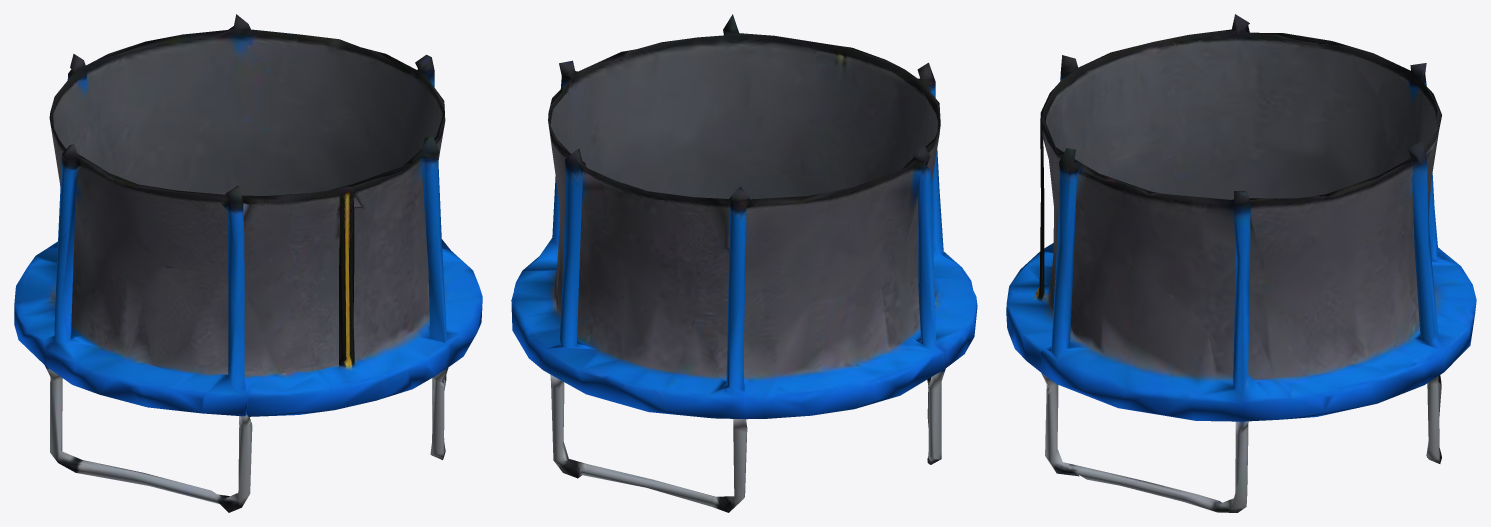
The model's file is trampoline.glb.
The picture shows the model from 3 angles, left to right: view 1: azimuth 30°, elevation 25°; view 2: azimuth 150°, elevation 25°; view 3: azimuth 270°, elevation 25°; orthographic projection.
Parts seen in each view (by area): view 1: trampoline-node; view 2: trampoline-node; view 3: trampoline-node.
Part boxes in pixels (x1=…): trampoline-node: x1=14, y1=14, x2=482, y2=512; trampoline-node: x1=511, y1=14, x2=977, y2=512; trampoline-node: x1=1006, y1=14, x2=1476, y2=512.
Size of the model in its own units: 1.31 by 1 by 1.31.
Materials: 1 (1 with a texture image).
